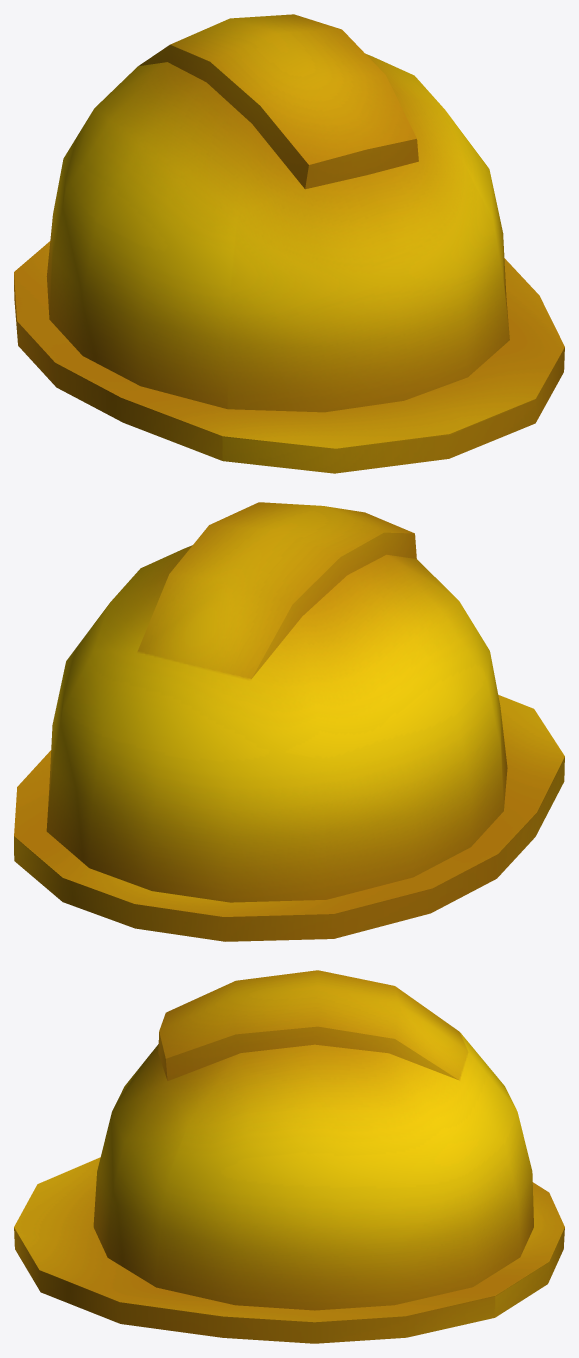
Rendered from m_HardHat01.obj.
3 views of the same model, one above another, from view 1: azimuth 30°, elevation 25°; view 2: azimuth 150°, elevation 25°; view 3: azimuth 270°, elevation 25° (orthographic). The views are drawn at different scales.
Parts seen in each view (by area): view 1: m_HardHat01_mi_Hardhat; view 2: m_HardHat01_mi_Hardhat; view 3: m_HardHat01_mi_Hardhat.
Boxes of the visible parts, bbox=[...] form: m_HardHat01_mi_Hardhat: bbox=[14, 14, 564, 473]; m_HardHat01_mi_Hardhat: bbox=[14, 502, 564, 941]; m_HardHat01_mi_Hardhat: bbox=[14, 970, 564, 1343].
Bounding box in the file's own units: 0.6574 × 0.4204 × 0.8045.
Materials: 1 (1 with a texture image).
